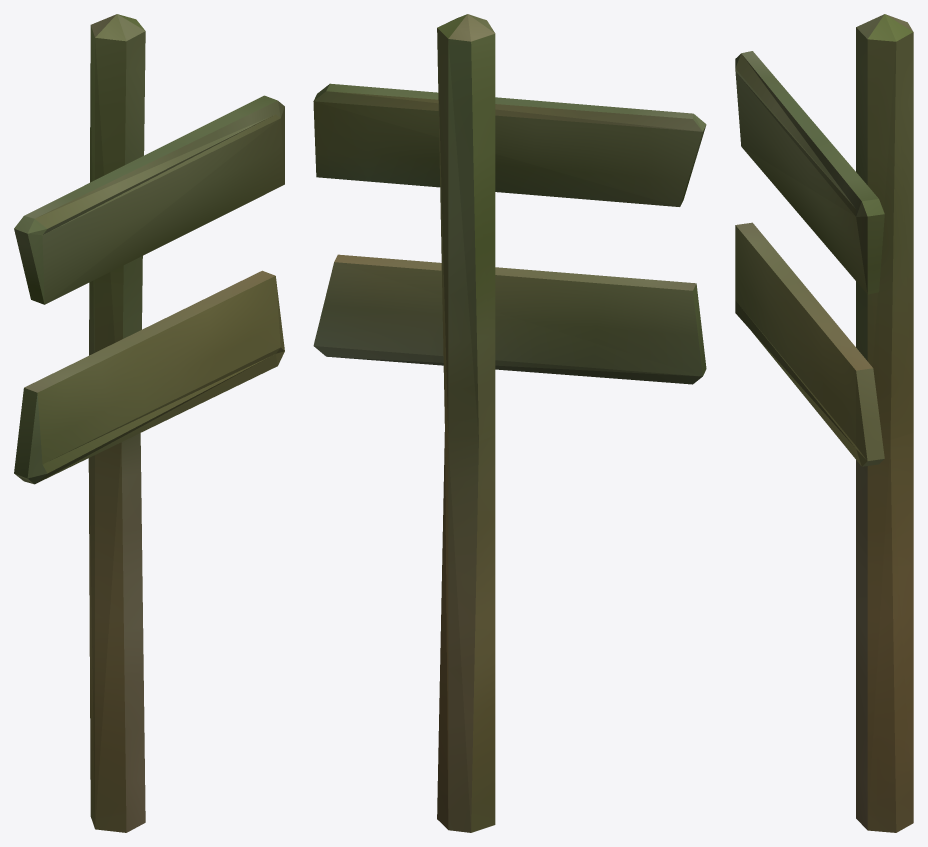
The model's file is prop_pole_game_lod2.glb.
The picture shows the model from 3 angles, left to right: view 1: azimuth 30°, elevation 25°; view 2: azimuth 150°, elevation 25°; view 3: azimuth 270°, elevation 25°; orthographic projection.
Visible parts, largest first — view 1: geometry_0; view 2: geometry_0; view 3: geometry_0.
Boxes of the visible parts, x1=… form: geometry_0: x1=14, y1=14, x2=284, y2=832; geometry_0: x1=313, y1=14, x2=706, y2=832; geometry_0: x1=735, y1=14, x2=913, y2=832.
Size of the model in its own units: 1.29 by 3.03 by 0.6055.
1 material, 1 textured.
